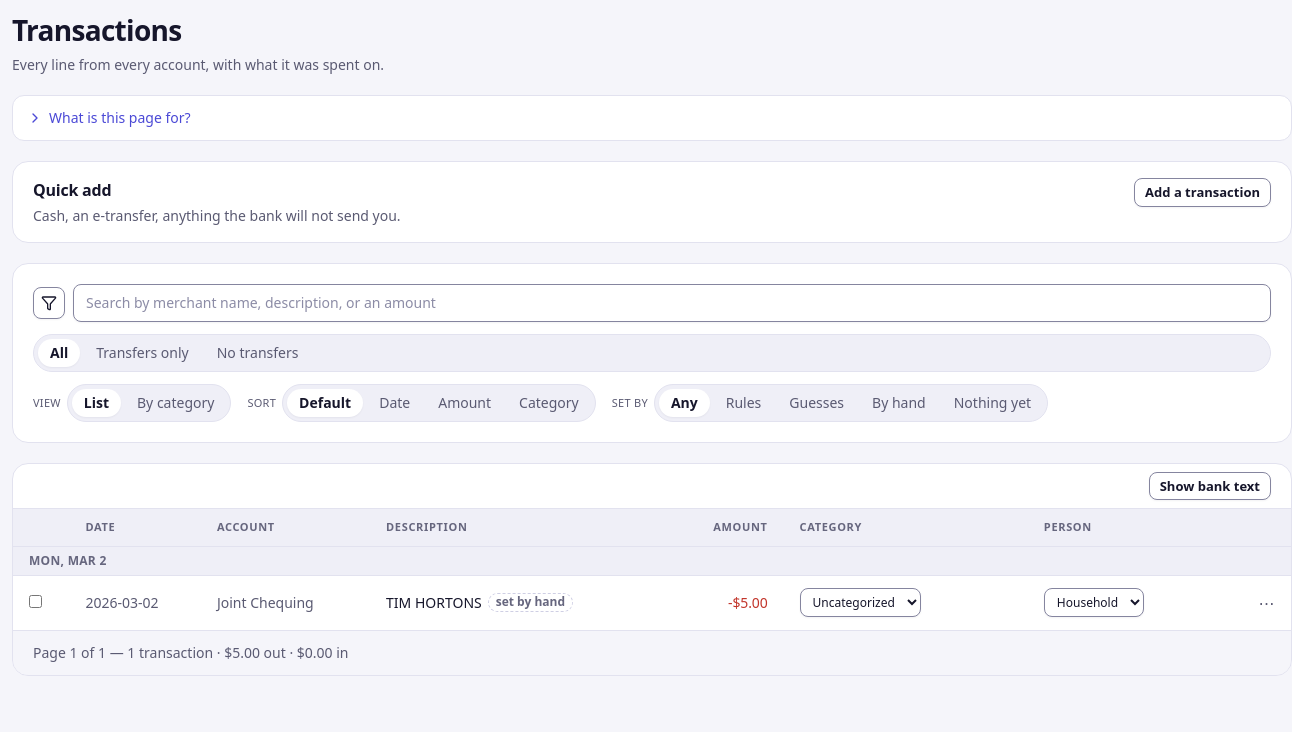
Scenario: Add to Loans & Coverage row action (§11) › links a normal row to the add form carrying only the transaction id
Click the button named "Actions for TIM HORTONS": {"x": 1267, "y": 603} [1251,587,1283,619]
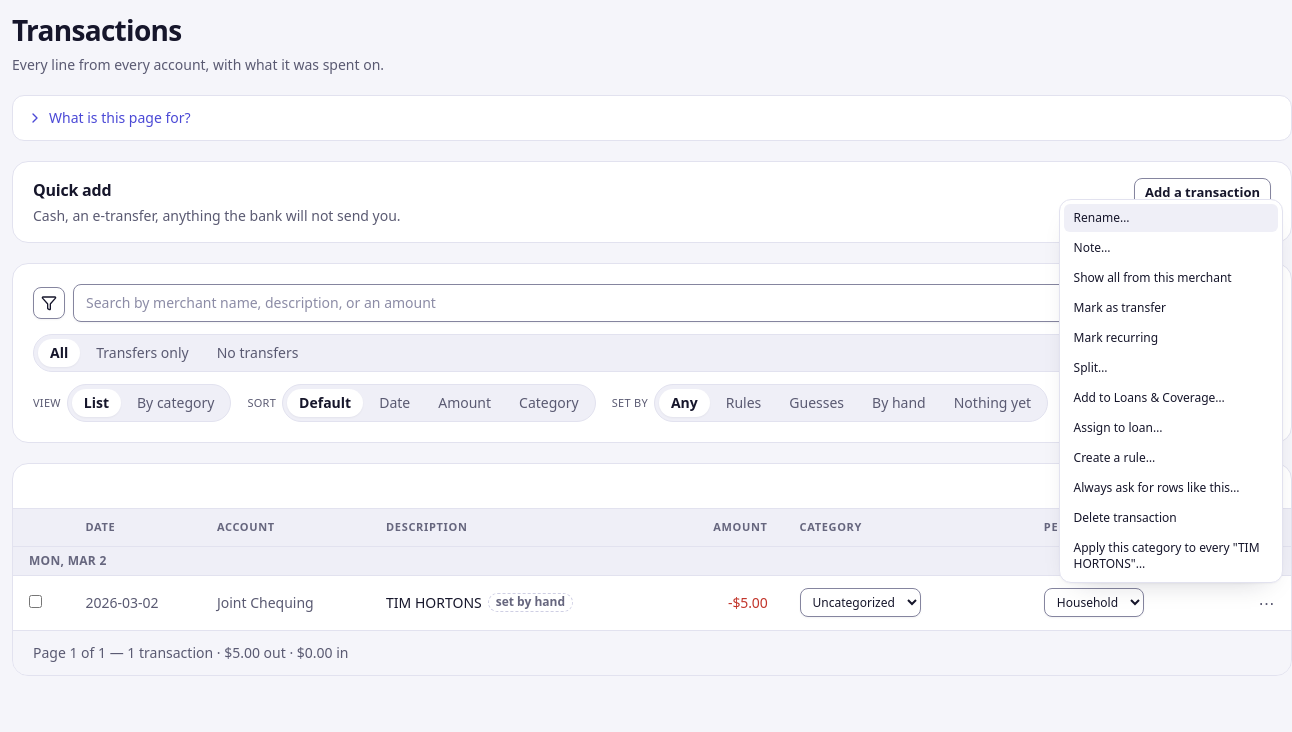
Check: the menu item to "/warranties/new?transactionId=77" shows "Add to Loans & Coverage", box [1074,389,1225,406]
